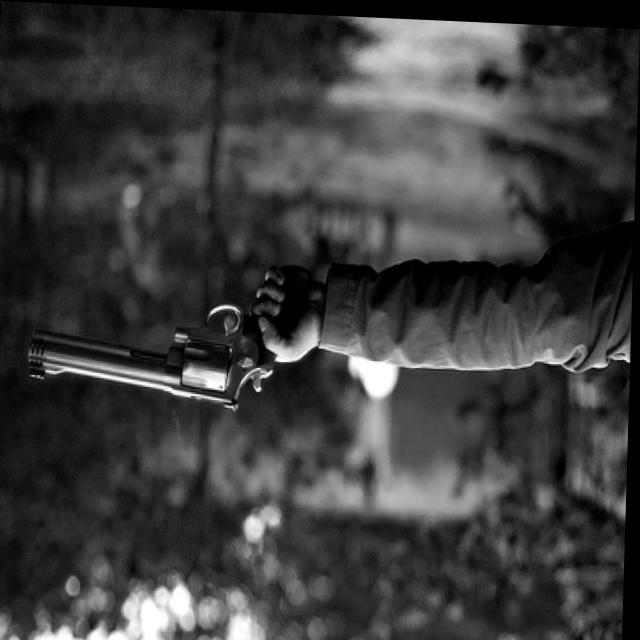handgun: (28, 250, 299, 412)
